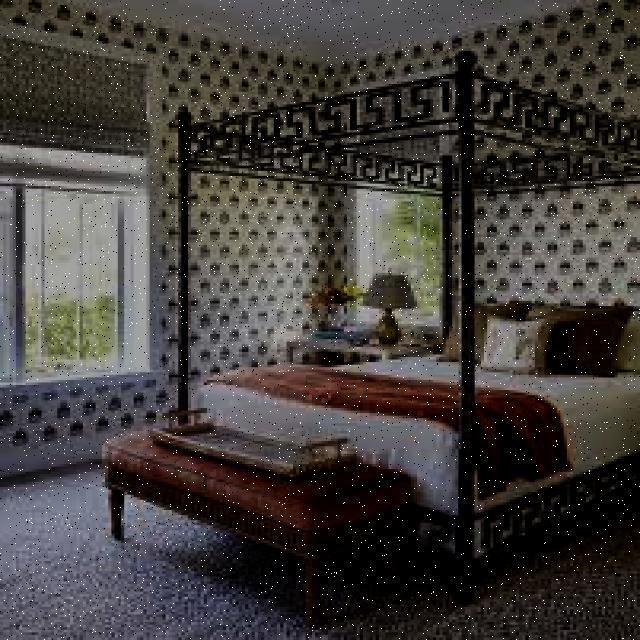bed: (204, 303, 640, 474)
